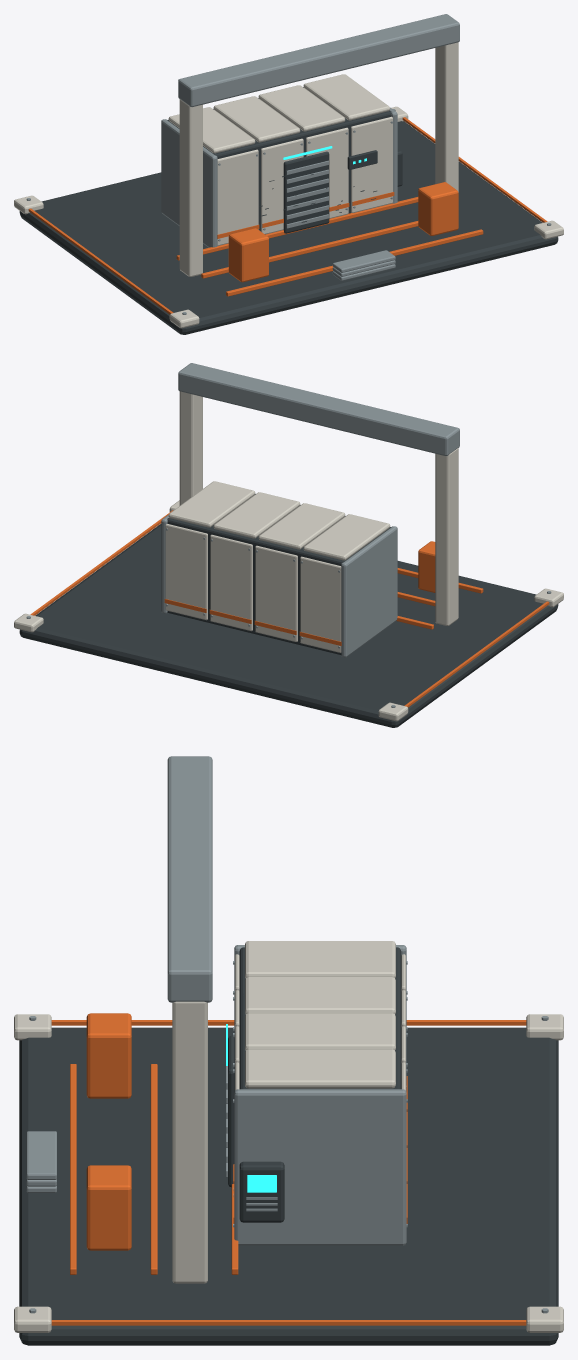
Rendered from SM_ShipRepairBay_Body.002.fbx.
3 views of the same model, one above another, from view 1: azimuth 30°, elevation 25°; view 2: azimuth 150°, elevation 25°; view 3: azimuth 270°, elevation 25° (orthographic). The views are drawn at different scales.
Visible parts, largest first — view 1: SM_ShipRepairBay_Body.002; view 2: SM_ShipRepairBay_Body.002; view 3: SM_ShipRepairBay_Body.002.
Boxes of the visible parts, left/top/right/bottom form: SM_ShipRepairBay_Body.002: left=14, top=14, right=563, bottom=334; SM_ShipRepairBay_Body.002: left=14, top=363, right=563, bottom=727; SM_ShipRepairBay_Body.002: left=14, top=756, right=563, bottom=1345.
Size of the model in its own units: 812 by 612 by 410.
